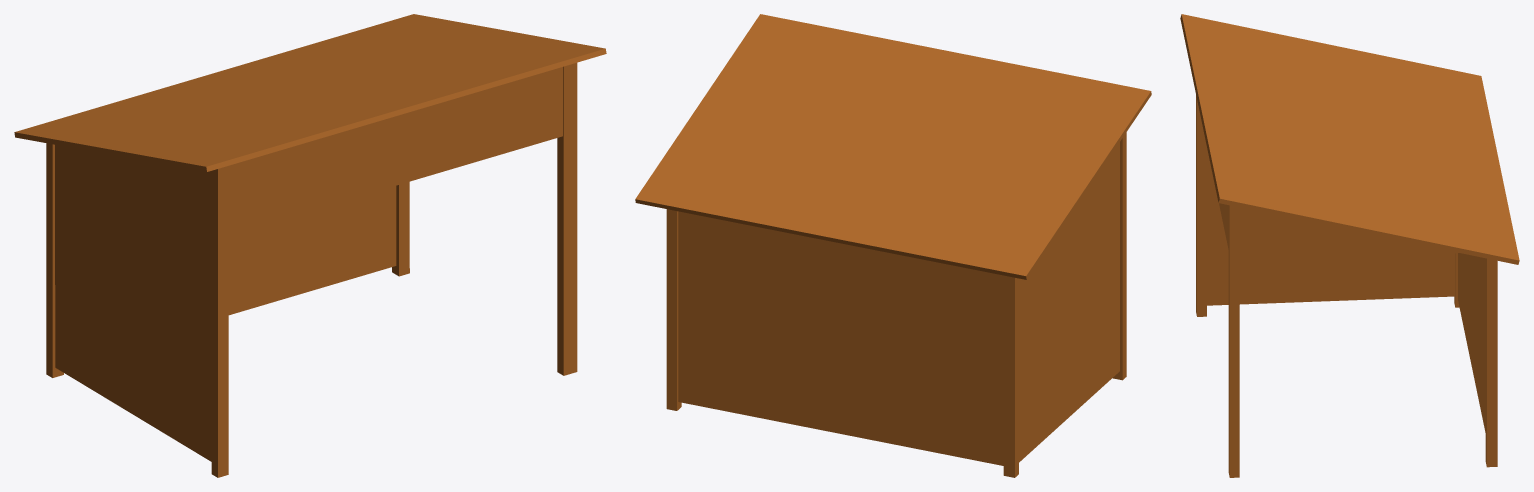
File: Tettoia.fbx
The picture shows the model from 3 angles, left to right: view 1: azimuth 30°, elevation 25°; view 2: azimuth 150°, elevation 25°; view 3: azimuth 270°, elevation 25°; orthographic projection. The views are drawn at different scales.
Parts seen in each view (by area): view 1: Cube.028; view 2: Cube.028; view 3: Cube.028.
Boxes of the visible parts, bbox=[...] form: Cube.028: bbox=[14, 14, 606, 477]; Cube.028: bbox=[635, 14, 1151, 477]; Cube.028: bbox=[1180, 14, 1519, 477].
Size of the model in its own units: 98.06 by 67.61 by 71.82.
